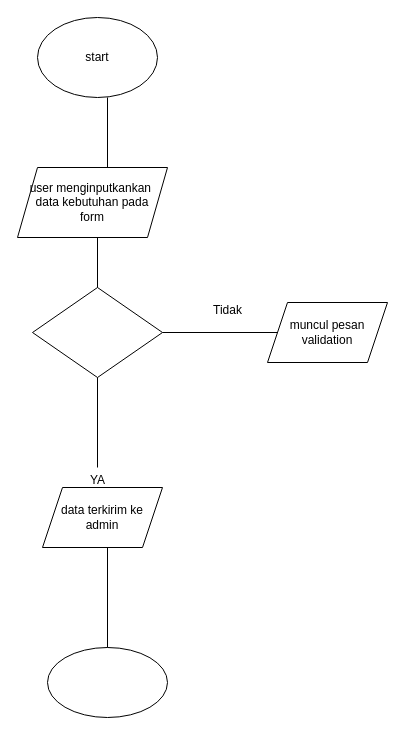
The diagram is 405 pixels wide and 735 high, and some of its shapes have lost their labels. Here are the shapes that lost their labels. From the top down, the centre of each, then its label:
point (97, 332): apakah data cocok yang disetting admin
point (107, 682): FINISH
